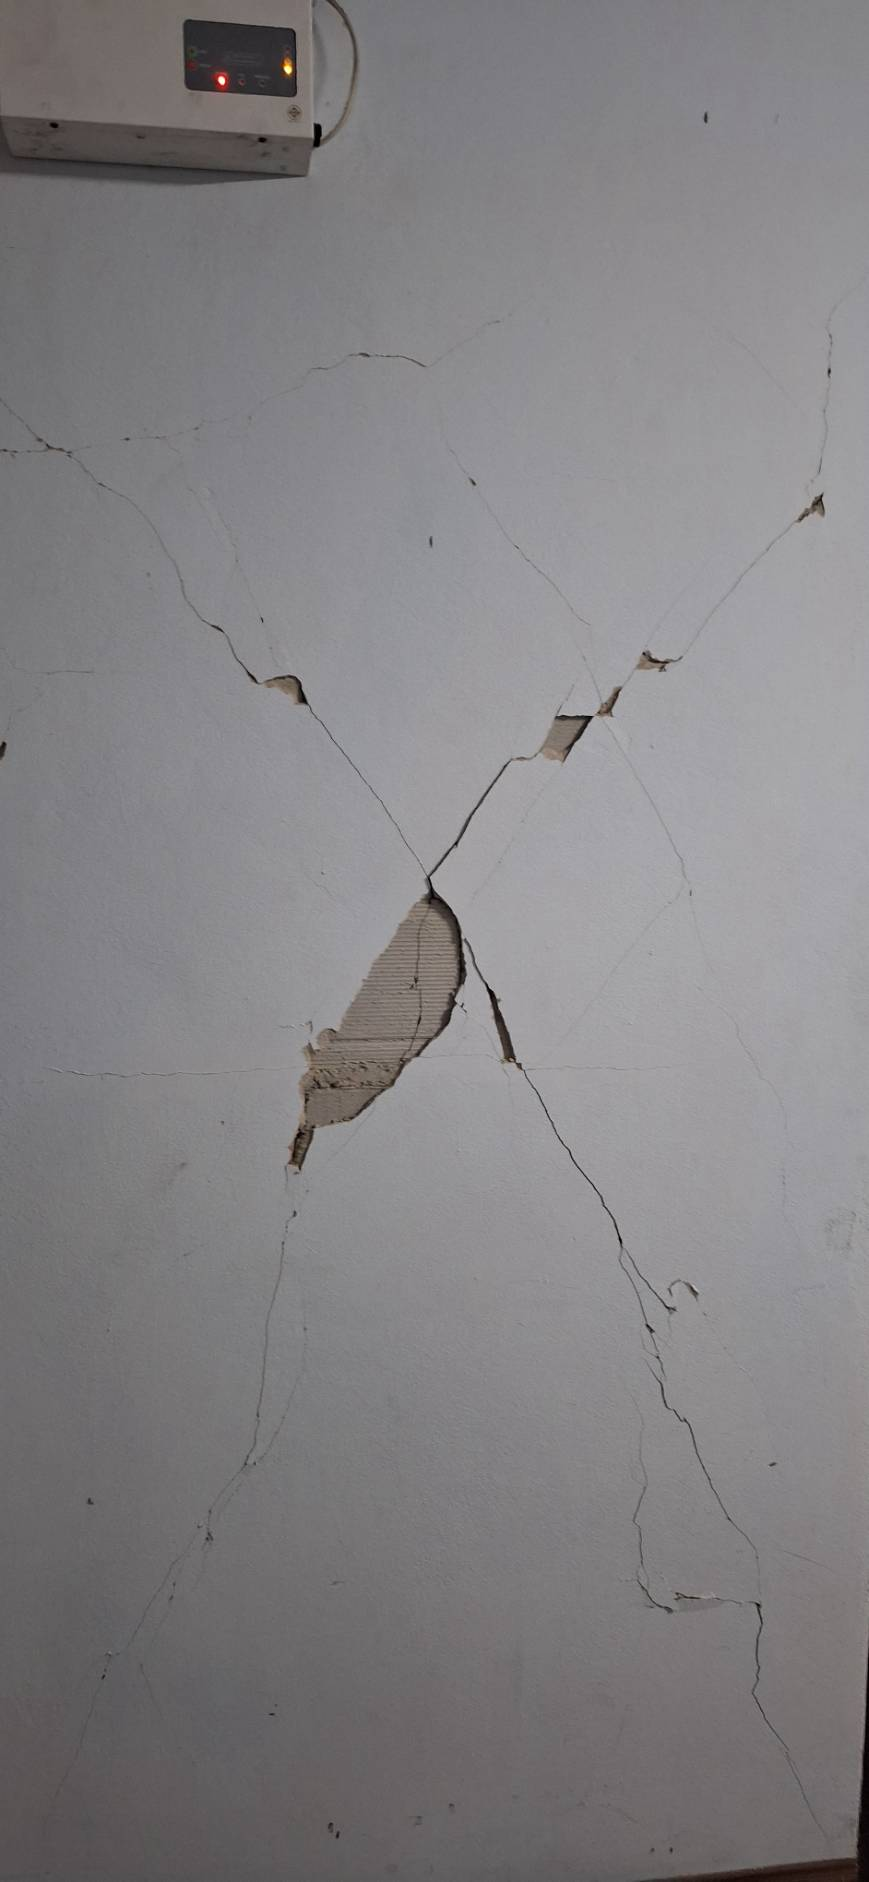Medium: (62, 355, 808, 1557)
